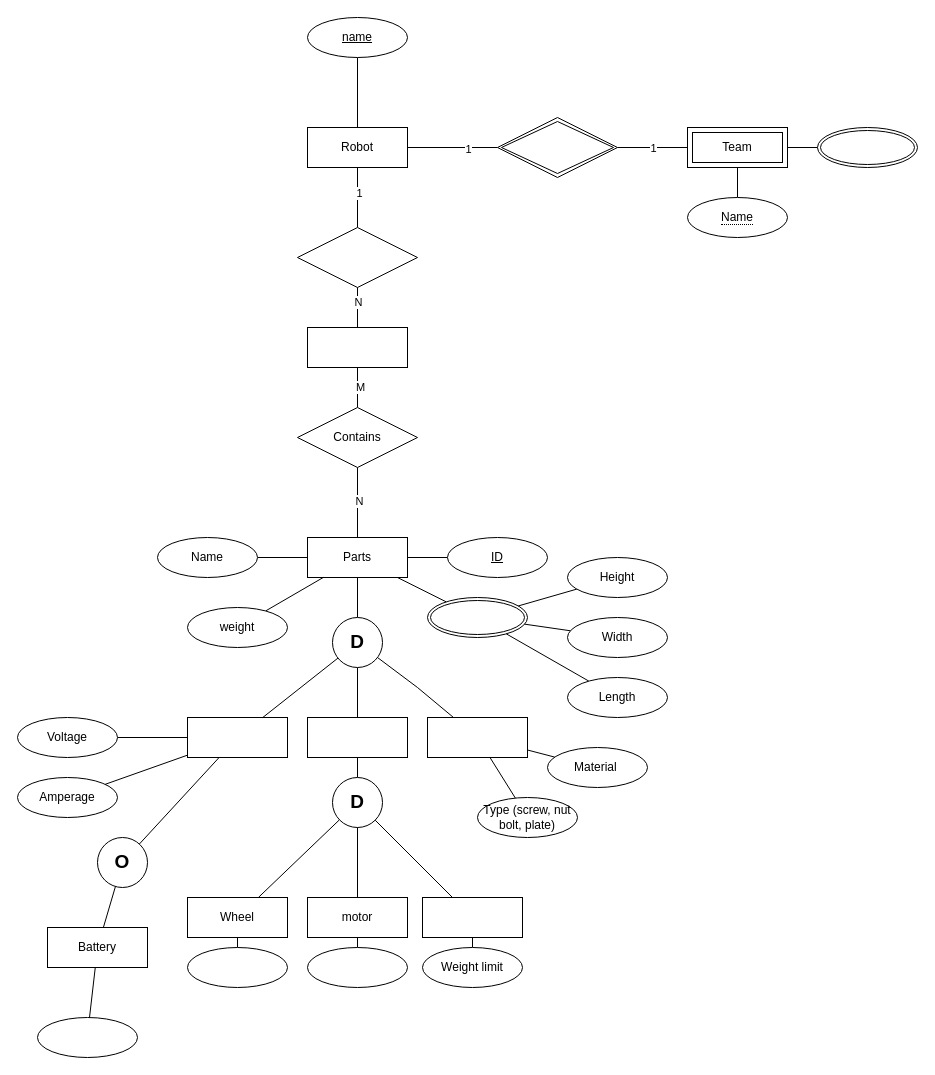
This 935x1075 diagram has some shape labels left out. Each missing label, with the centre of its shape:
"Charge (milliamps)" belongs at point 87,1037.
"Dimensions" belongs at point 477,617.
"Electronic" belongs at point 237,737.
"Is part of" belongs at point 357,257.
"Managers" belongs at point 867,147.
"Mechanical" belongs at point 357,737.
"Structural" belongs at point 477,737.
"Sub-Assembly" belongs at point 357,347.
"suspension" belongs at point 472,917.
"torque" belongs at point 357,967.
"Type (omni or regular)" belongs at point 237,967.
"Worked on by" belongs at point 557,147.
